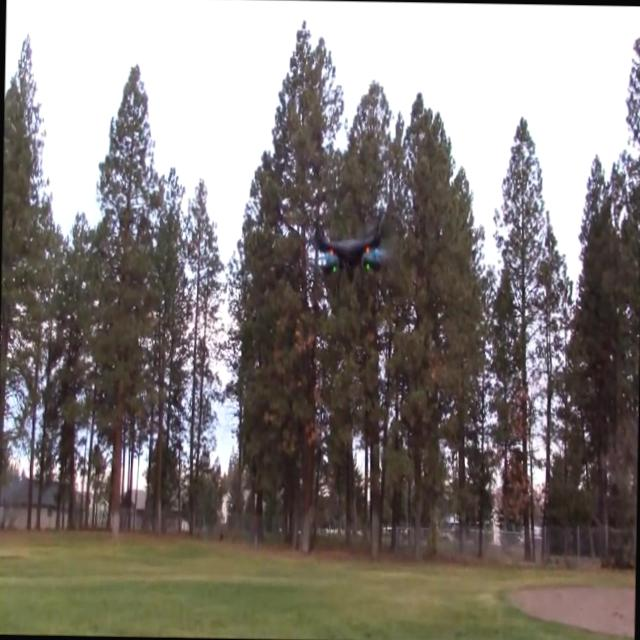drone: (314, 216, 388, 293)
